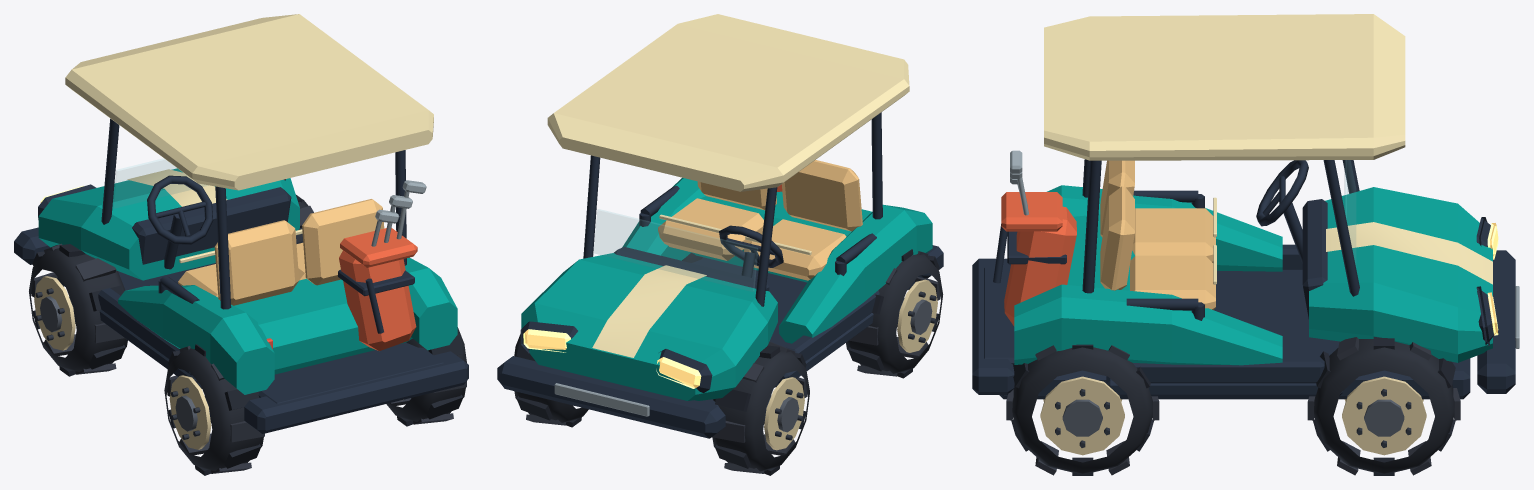
File: golf-cart-modular.glb
The picture shows the model from 3 angles, left to right: view 1: azimuth 30°, elevation 25°; view 2: azimuth 150°, elevation 25°; view 3: azimuth 270°, elevation 25°; orthographic projection. The views are drawn at different scales.
Parts seen in each view (by area): view 1: canopy, WheelSpin (×3), rear-body, chassis, bench-seat, nose-shell, rear-bumper, golf-bag, roof-posts, windscreen, SteeringWheel, golf-clubs (+3 smaller); view 2: canopy, nose-shell, WheelSpin (×3), rear-body, bench-seat, windscreen, chassis, front-bumper, nose-cream-inlay, roof-posts, headlights, lamp-sockets (+3 smaller); view 3: canopy, WheelSpin (×2), chassis, rear-body, nose-shell, bench-seat, golf-bag, roof-posts, front-bumper, nose-cream-inlay, rear-bumper, SteeringWheel (+4 smaller).
Part boxes in pixels (left/top/right/bottom): canopy: left=65, top=14, right=433, bottom=190; WheelSpin (×3): left=29, top=243, right=466, bottom=475; rear-body: left=118, top=257, right=457, bottom=394; chassis: left=57, top=187, right=443, bottom=422; bench-seat: left=178, top=199, right=384, bottom=305; nose-shell: left=38, top=168, right=299, bottom=280; rear-bumper: left=244, top=351, right=468, bottom=433; golf-bag: left=339, top=228, right=417, bottom=351; roof-posts: left=101, top=118, right=406, bottom=309; windscreen: left=113, top=159, right=207, bottom=208; SteeringWheel: left=147, top=175, right=213, bottom=244; golf-clubs: left=371, top=180, right=426, bottom=246; canopy: left=547, top=14, right=909, bottom=191; nose-shell: left=521, top=253, right=777, bottom=400; WheelSpin (×3): left=514, top=249, right=943, bottom=475; rear-body: left=622, top=177, right=932, bottom=343; bench-seat: left=658, top=160, right=862, bottom=280; windscreen: left=594, top=209, right=757, bottom=291; chassis: left=614, top=185, right=914, bottom=423; front-bumper: left=497, top=356, right=725, bottom=438; nose-cream-inlay: left=592, top=265, right=706, bottom=357; roof-posts: left=583, top=112, right=882, bottom=306; headlights: left=523, top=329, right=701, bottom=388; lamp-sockets: left=520, top=321, right=712, bottom=395; canopy: left=1044, top=14, right=1405, bottom=160; WheelSpin (×2): left=1006, top=337, right=1460, bottom=475; chassis: left=984, top=190, right=1470, bottom=399; rear-body: left=1014, top=185, right=1282, bottom=365; nose-shell: left=1309, top=187, right=1492, bottom=362; bench-seat: left=1100, top=160, right=1215, bottom=309; golf-bag: left=1001, top=192, right=1076, bottom=326; roof-posts: left=1082, top=159, right=1359, bottom=296; front-bumper: left=1477, top=250, right=1515, bottom=393; nose-cream-inlay: left=1326, top=222, right=1492, bottom=284; rear-bumper: left=972, top=258, right=1014, bottom=394; SteeringWheel: left=1256, top=160, right=1308, bottom=226.
Size of the model in its own units: 1.95 by 2.15 by 3.12.
